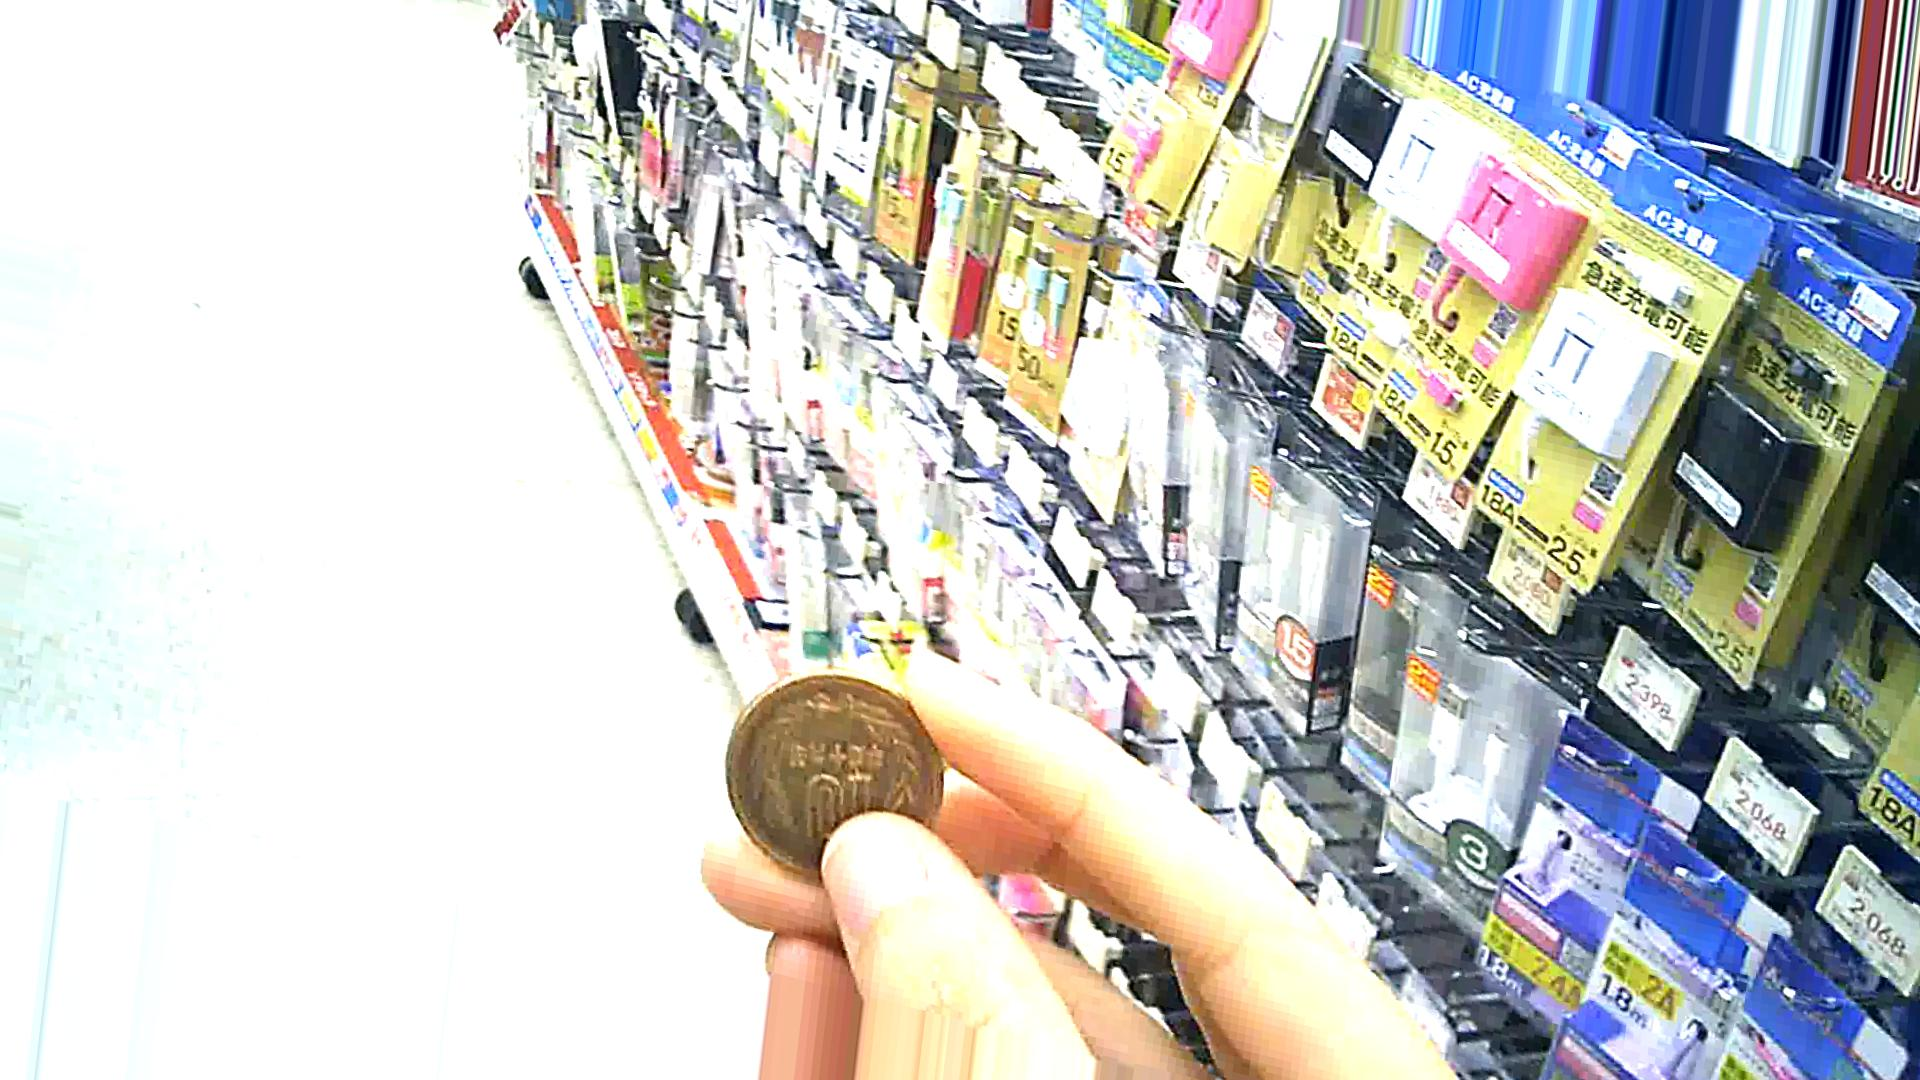10 Yen: (713, 671, 945, 893)
